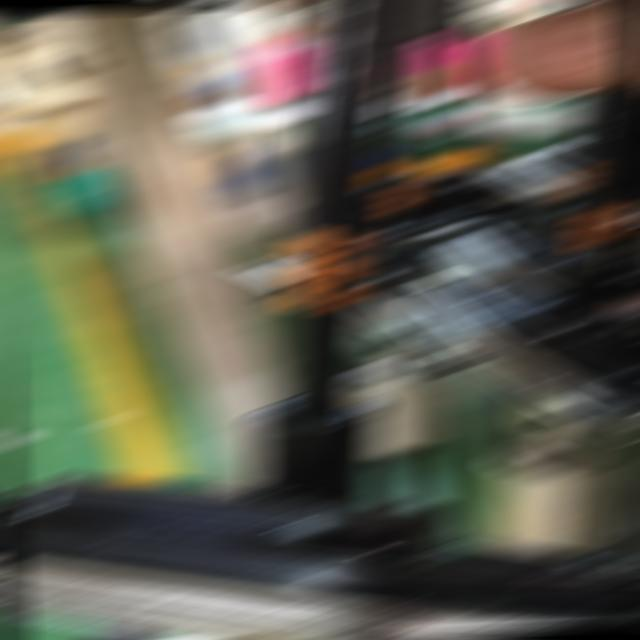orange: (274, 235, 376, 308), (563, 209, 632, 246), (372, 184, 431, 212)
